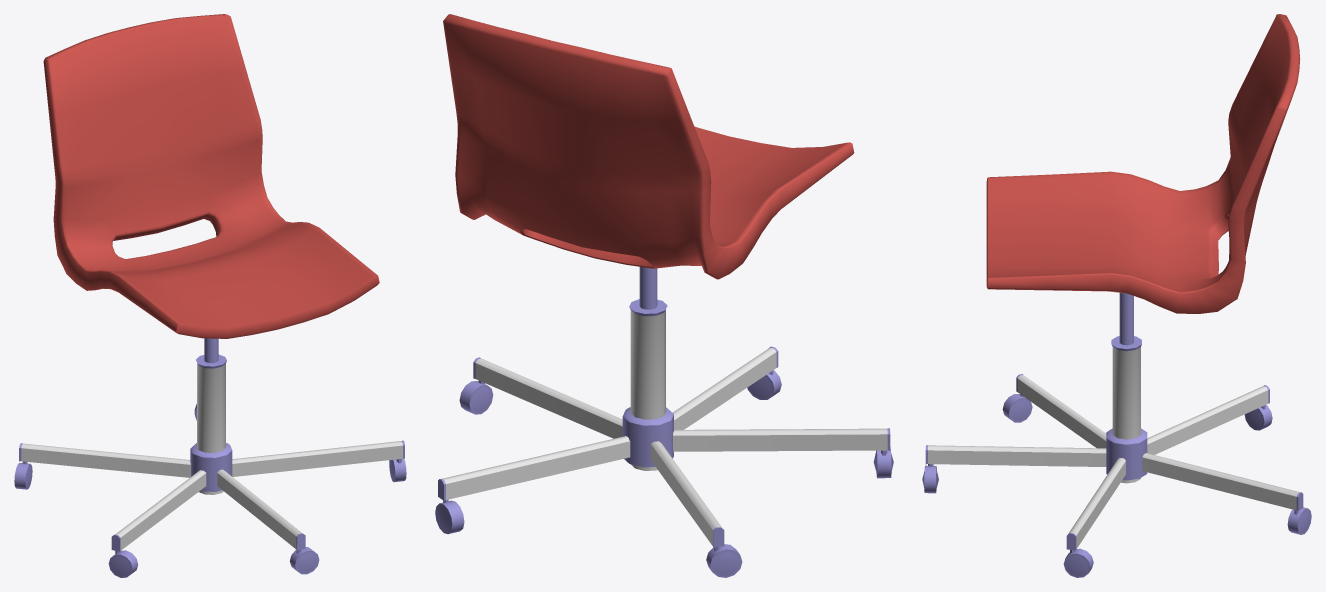
File: SntlleSwivelChair.FBX
3 views of the same model, side by side, from view 1: azimuth 30°, elevation 25°; view 2: azimuth 150°, elevation 25°; view 3: azimuth 270°, elevation 25° (orthographic). The views are drawn at different scales.
Parts seen in each view (by area): view 1: SntlleSwivelChair; view 2: SntlleSwivelChair; view 3: SntlleSwivelChair.
Part boxes in pixels (x1,y1,x2,y2): SntlleSwivelChair: [14, 14, 406, 577]; SntlleSwivelChair: [435, 14, 893, 577]; SntlleSwivelChair: [922, 14, 1311, 577].
Size of the model in its own units: 67 by 67 by 83.
